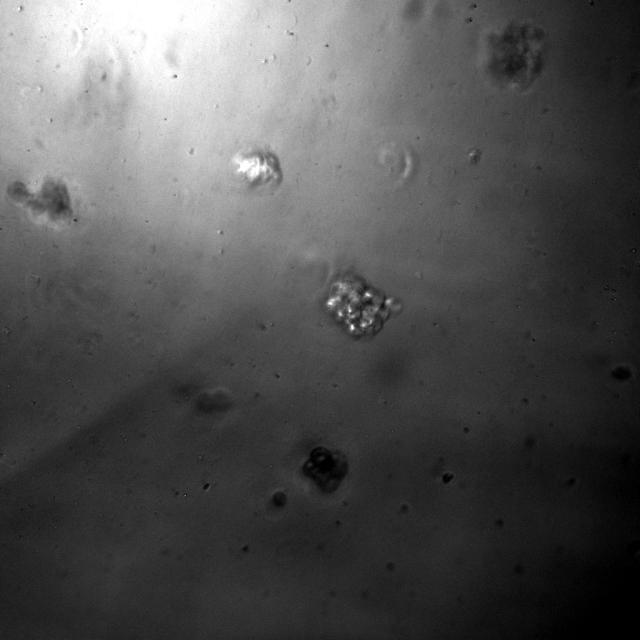organoid: (321, 271, 401, 339), (479, 19, 546, 92), (6, 177, 74, 228), (229, 147, 282, 191), (302, 446, 348, 492), (196, 388, 232, 412), (272, 492, 286, 506), (441, 472, 454, 484)
